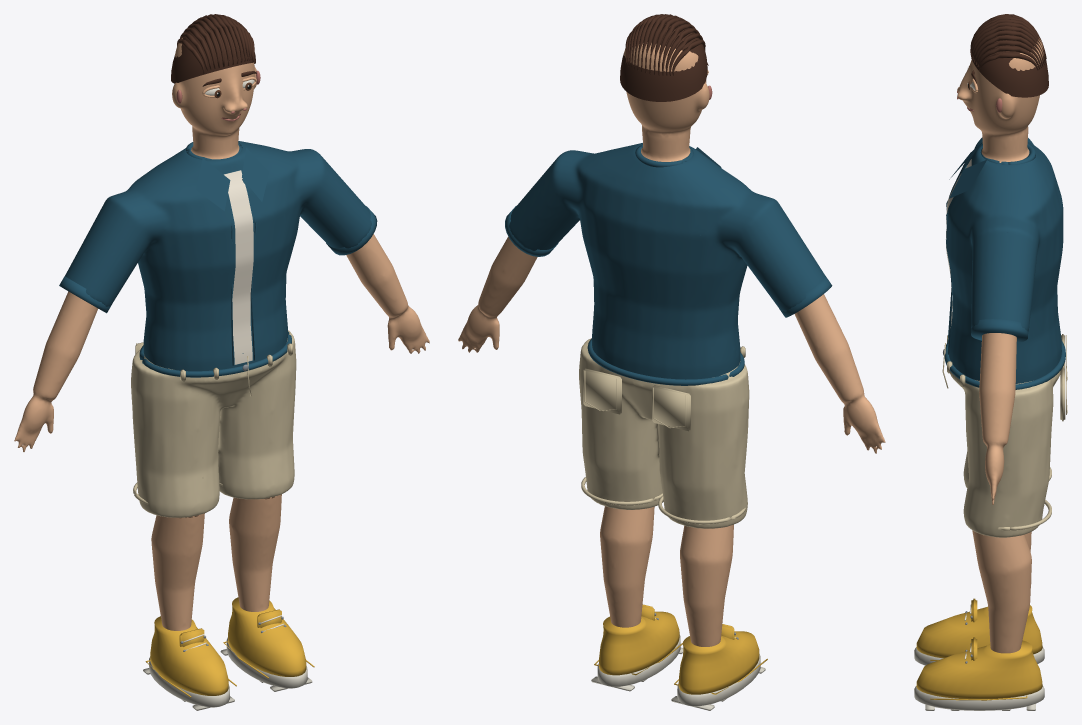
The model's file is NPC2_03_Civil_Male_Turquoise.fbx.
3 views of the same model, side by side, from view 1: azimuth 30°, elevation 25°; view 2: azimuth 150°, elevation 25°; view 3: azimuth 270°, elevation 25° (orthographic). The views are drawn at different scales.
Parts seen in each view (by area): view 1: Garment_Top_Continuous.004, Skin_03_Civil_Male_Turquoise, Trouser_Continuous.004, Shoe_Upper.008, Shoe_Upper.009, Undershirt_Front.002, Hair_Cap.004, Collar_Lapel.004, Top_Hem.004, Shoe_Sole.009, Shoe_Sole.008, Collar_Lapel.005; view 2: Garment_Top_Continuous.004, Skin_03_Civil_Male_Turquoise, Trouser_Continuous.004, Shoe_Upper.009, Shoe_Upper.008, Hair_Cap.004, Back_Pocket.009, Back_Pocket.008, Top_Hem.004, Shoe_Sole.009, Shoe_Sole.008; view 3: Garment_Top_Continuous.004, Skin_03_Civil_Male_Turquoise, Trouser_Continuous.004, Shoe_Upper.009, Shoe_Upper.008, Hair_Cap.004, Shoe_Sole.009, Sleeve_Cuff.009, Top_Hem.004, Collar_Lapel.005, Hair_SweptLock.097, Hair_SweptLock.010 (+10 smaller).
Part boxes in pixels (<box>): Garment_Top_Continuous.004: <box>65,141,371,371</box>; Skin_03_Civil_Male_Turquoise: <box>14,38,429,630</box>; Trouser_Continuous.004: <box>131,330,296,517</box>; Shoe_Upper.008: <box>150,616,228,695</box>; Shoe_Upper.009: <box>228,597,306,676</box>; Undershirt_Front.002: <box>224,170,253,364</box>; Hair_Cap.004: <box>171,24,255,83</box>; Collar_Lapel.004: <box>196,158,230,210</box>; Top_Hem.004: <box>139,331,291,377</box>; Shoe_Sole.009: <box>226,637,307,688</box>; Shoe_Sole.008: <box>149,656,229,707</box>; Collar_Lapel.005: <box>242,148,269,201</box>; Garment_Top_Continuous.004: <box>509,143,825,379</box>; Skin_03_Civil_Male_Turquoise: <box>458,42,885,646</box>; Trouser_Continuous.004: <box>579,338,749,528</box>; Shoe_Upper.009: <box>599,611,679,675</box>; Shoe_Upper.008: <box>678,631,759,694</box>; Hair_Cap.004: <box>620,24,707,101</box>; Back_Pocket.009: <box>583,368,621,414</box>; Back_Pocket.008: <box>652,385,690,431</box>; Top_Hem.004: <box>587,338,744,385</box>; Shoe_Sole.009: <box>597,635,680,686</box>; Shoe_Sole.008: <box>677,654,760,706</box>; Garment_Top_Continuous.004: <box>946,137,1063,383</box>; Skin_03_Civil_Male_Turquoise: <box>957,38,1043,653</box>; Trouser_Continuous.004: <box>950,371,1060,537</box>; Shoe_Upper.009: <box>916,640,1042,699</box>; Shoe_Upper.008: <box>916,605,1042,658</box>; Hair_Cap.004: <box>971,36,1048,97</box>; Shoe_Sole.009: <box>914,686,1044,710</box>; Sleeve_Cuff.009: <box>971,319,1028,342</box>; Top_Hem.004: <box>944,341,1065,389</box>; Collar_Lapel.005: <box>949,159,986,198</box>; Hair_SweptLock.097: <box>974,35,1043,66</box>; Hair_SweptLock.010: <box>972,30,1044,64</box>.
Size of the model in its own units: 1.24 by 1.86 by 0.388.
